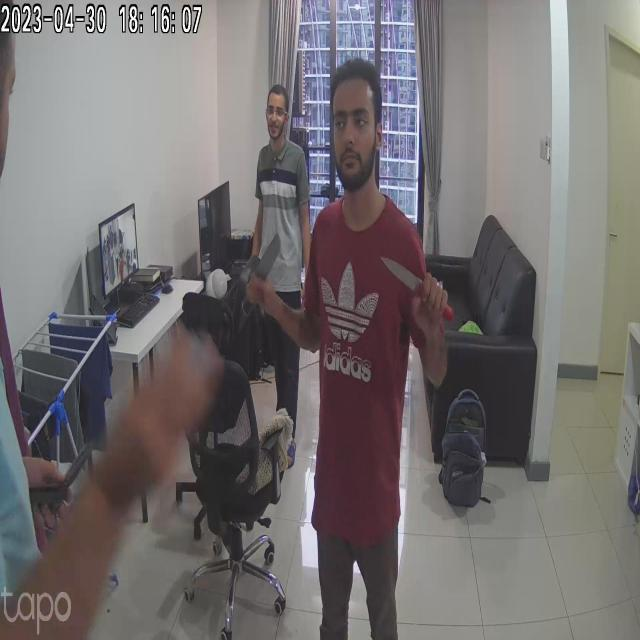Knife: (375, 253, 469, 324), (233, 224, 299, 293)
